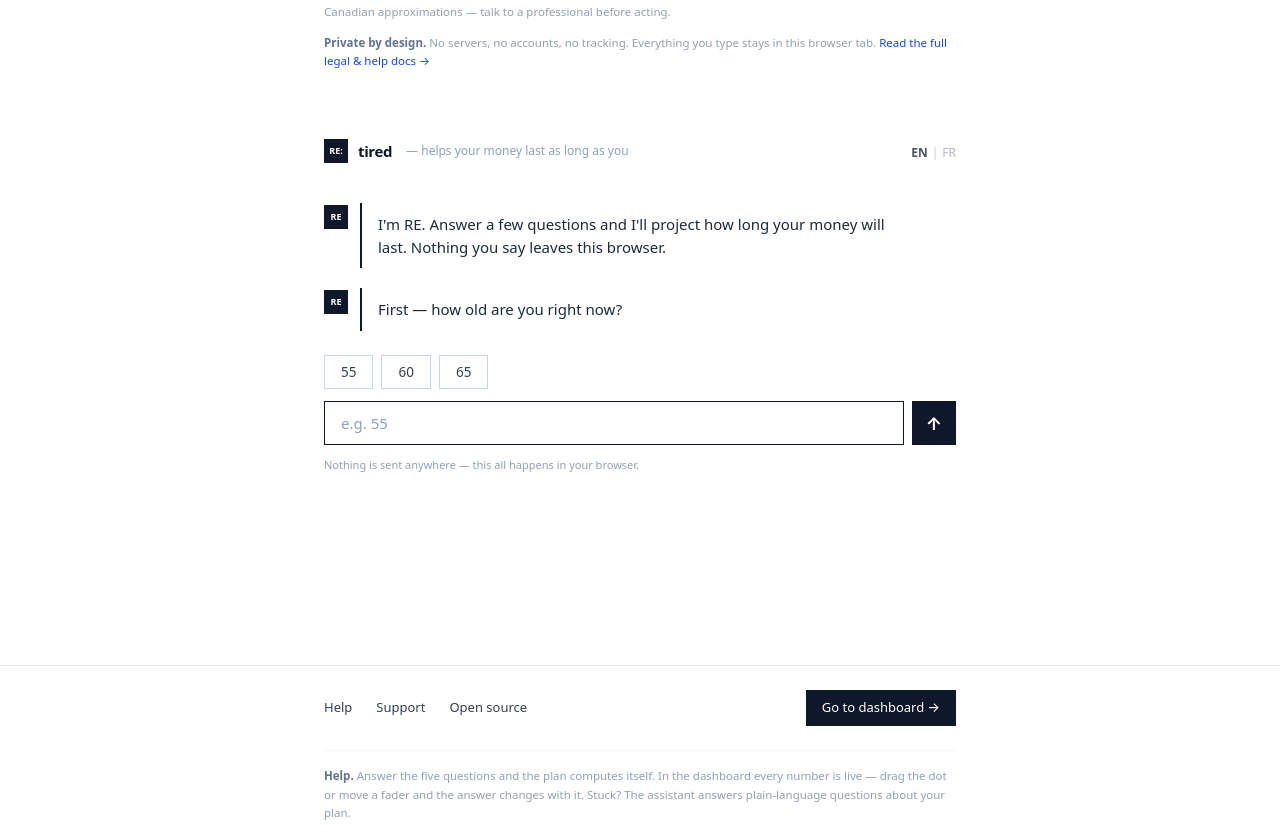
LandingPage › after the questions offers the two exits: go to dashboard, keep chatting
(page scrolled)
Click the button "55".
click(349, 372)  # box x1=324 y1=354 x2=374 y2=389
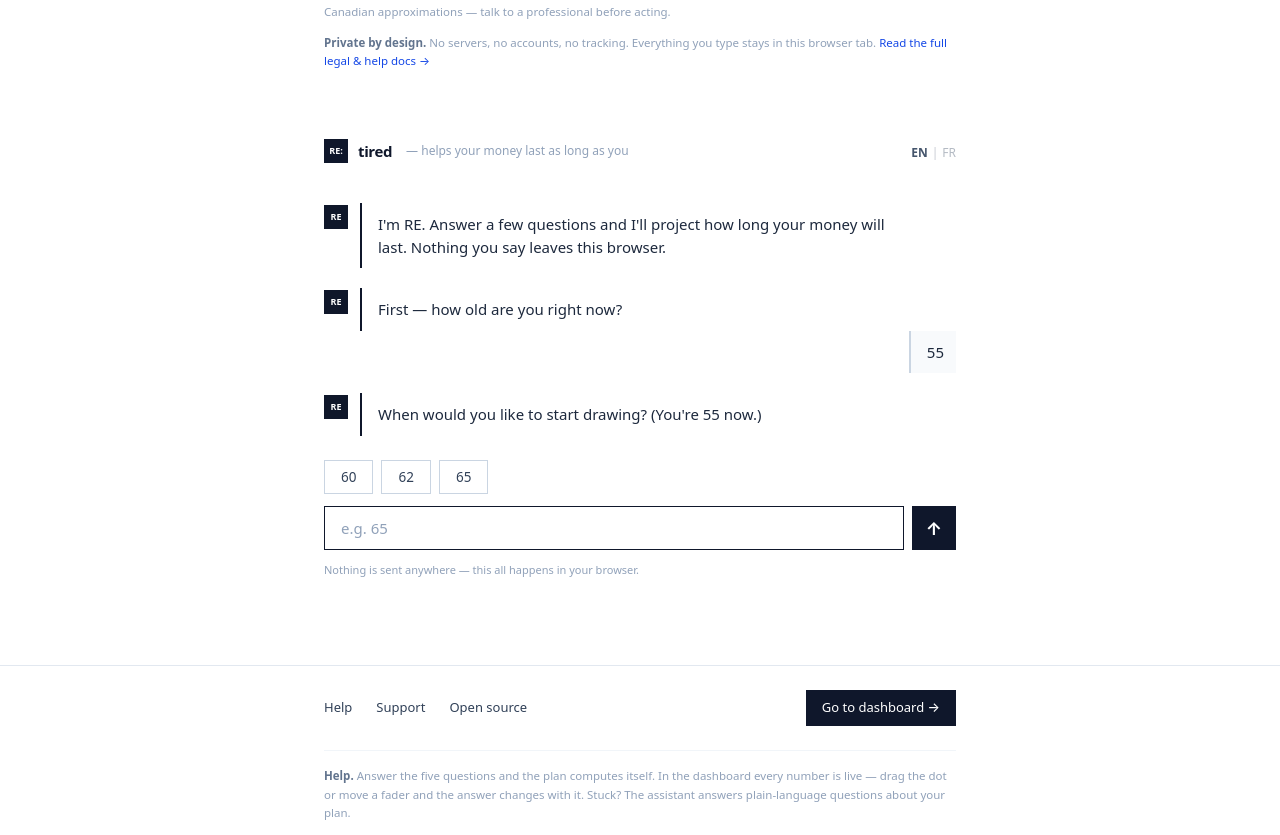
Click the button "65".
click(464, 477)  # box x1=439 y1=460 x2=488 y2=494
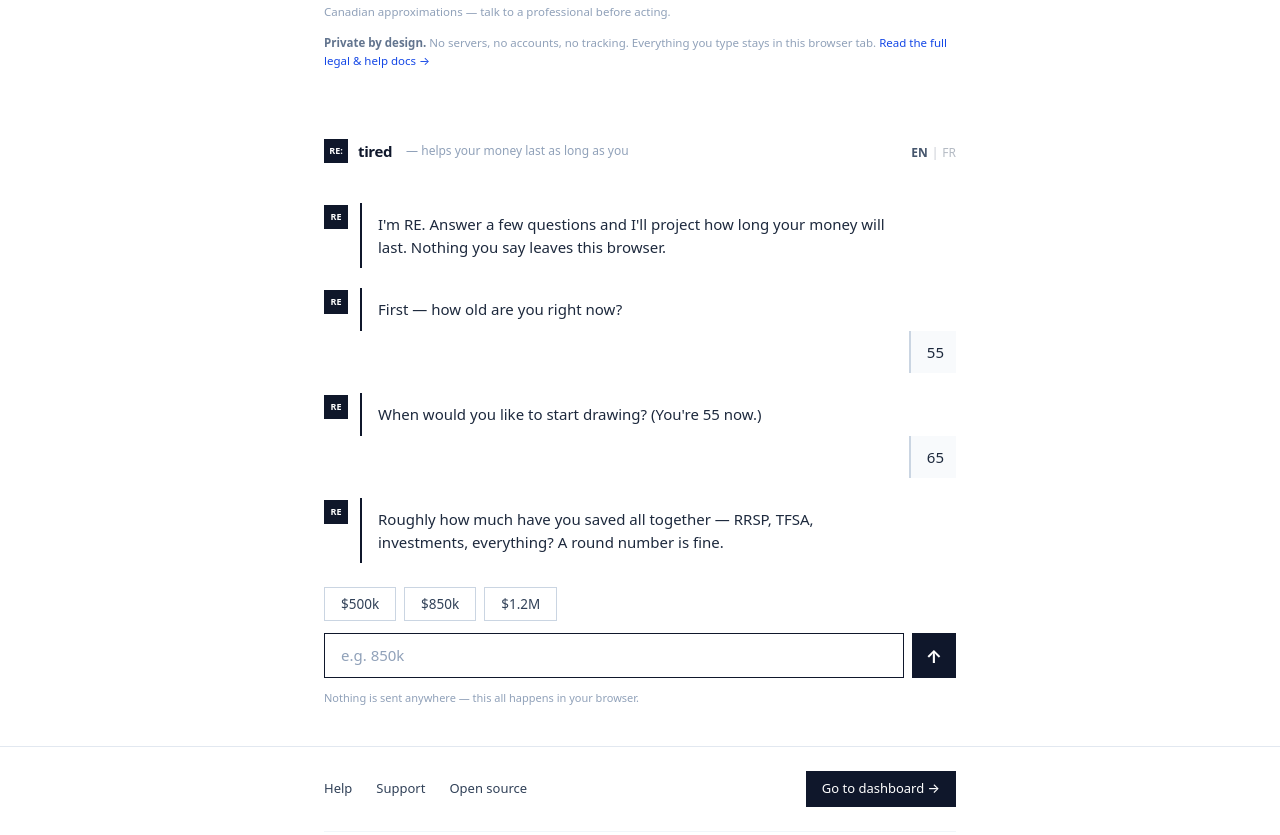
Click the button "$500k".
click(360, 604)  # box x1=324 y1=587 x2=396 y2=621
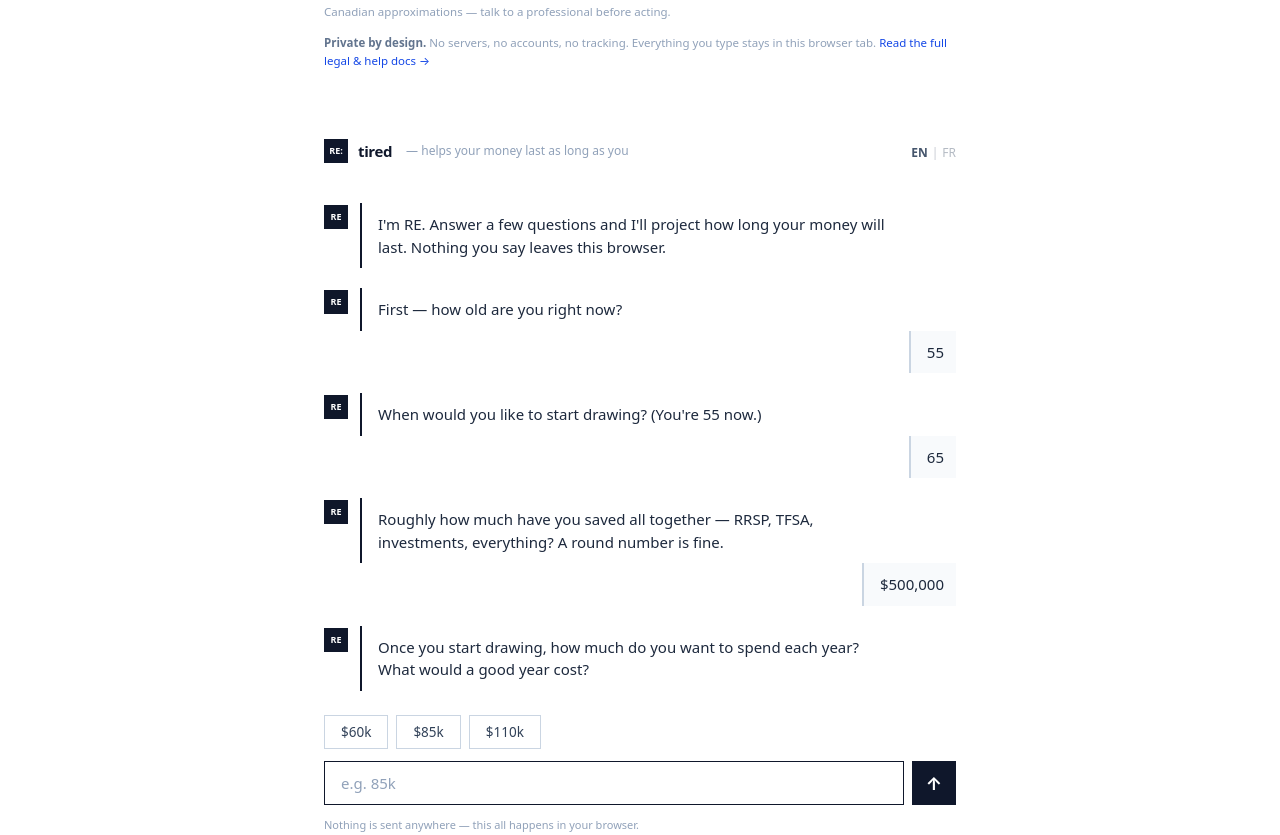
Click the button "$60k".
click(356, 732)  # box x1=324 y1=714 x2=388 y2=749
(page scrolled)
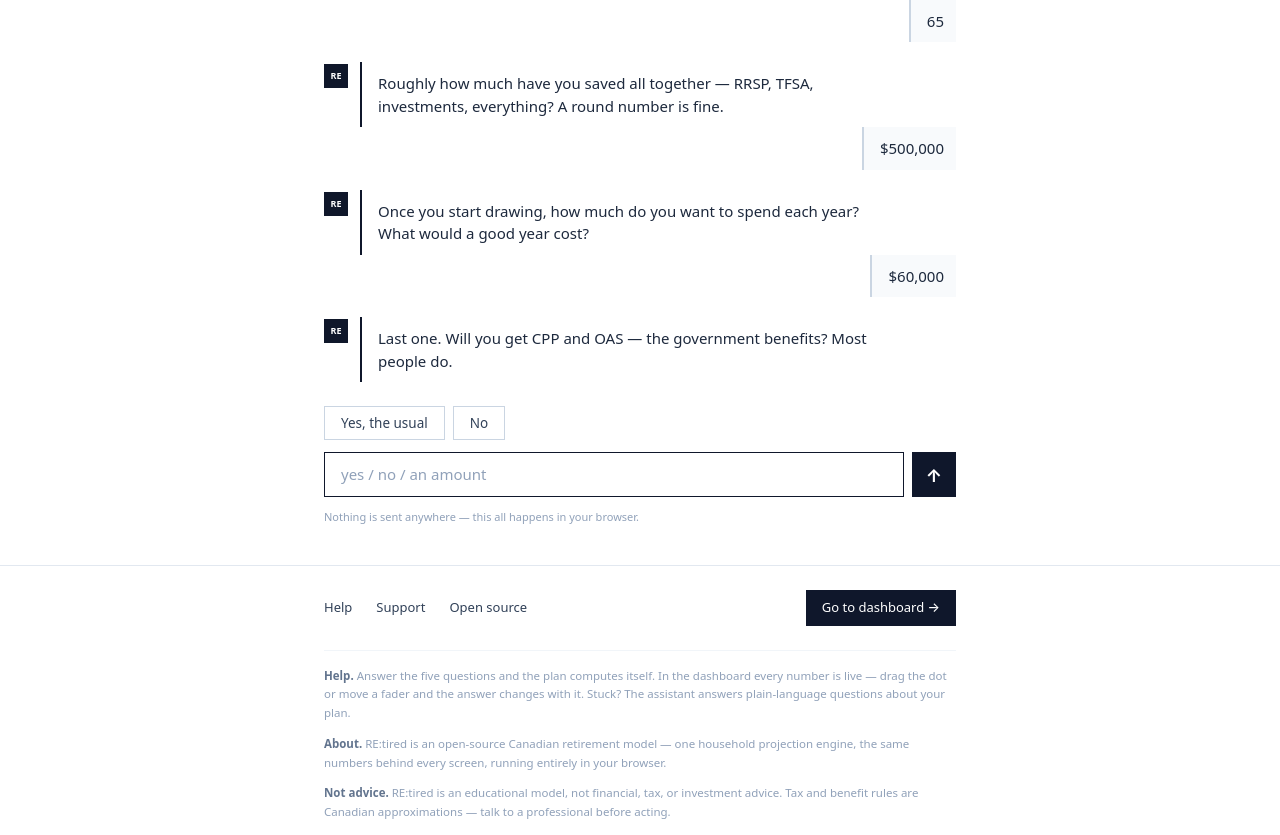
Click the button "Yes, the usual".
click(384, 423)  # box x1=324 y1=406 x2=445 y2=440
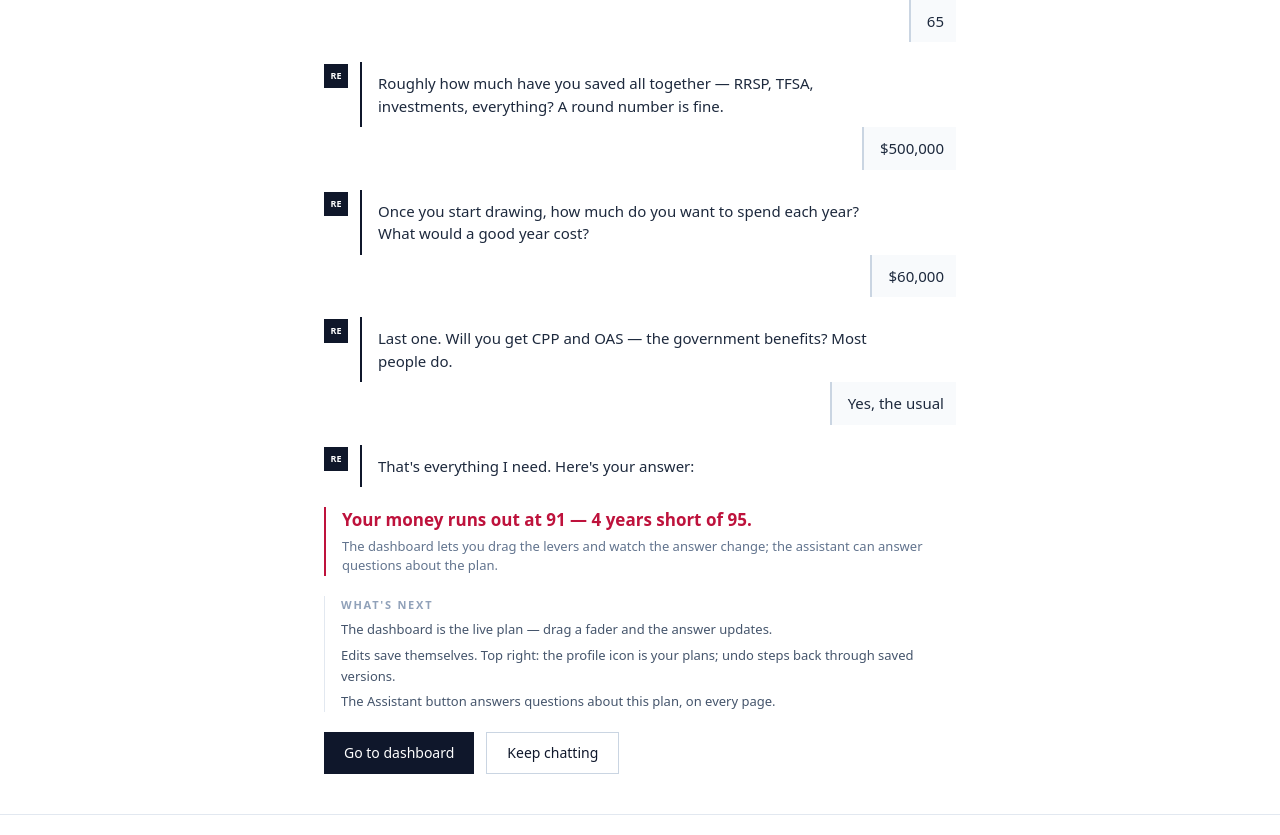
Expected: the text "What's next" is shown, x1=341 y1=596 x2=433 y2=612
Expected: the text "Edits save themselves" is shown, x1=341 y1=646 x2=914 y2=685
